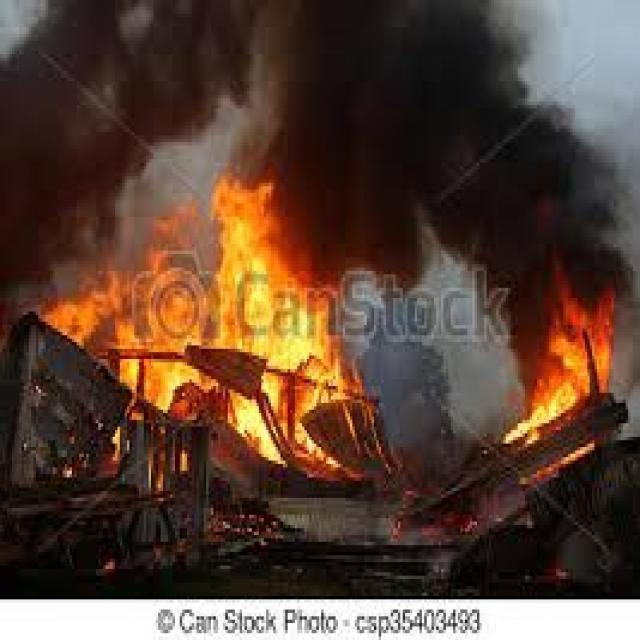Fire: (50, 183, 272, 472), (239, 281, 366, 475), (522, 334, 592, 447), (549, 289, 615, 402), (234, 398, 282, 464), (147, 358, 204, 411)
Smoke: (0, 0, 549, 163), (442, 124, 528, 275), (380, 137, 426, 296)
